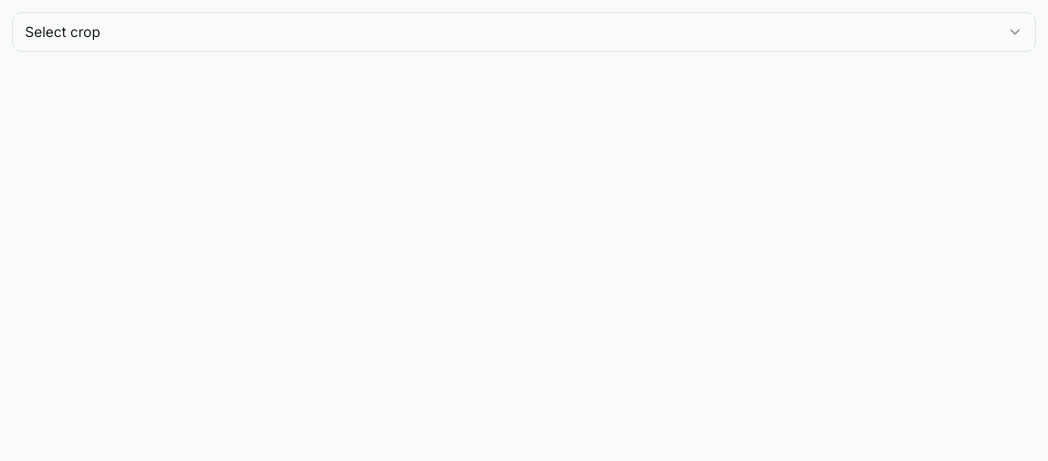
Scenario: CatalogueSelectItems › disables a PILOT item the SERVER marks unsellable, with the server's reason
Click the dropdown labelled "crop": coordinates (63, 32) [12,12,1036,52]
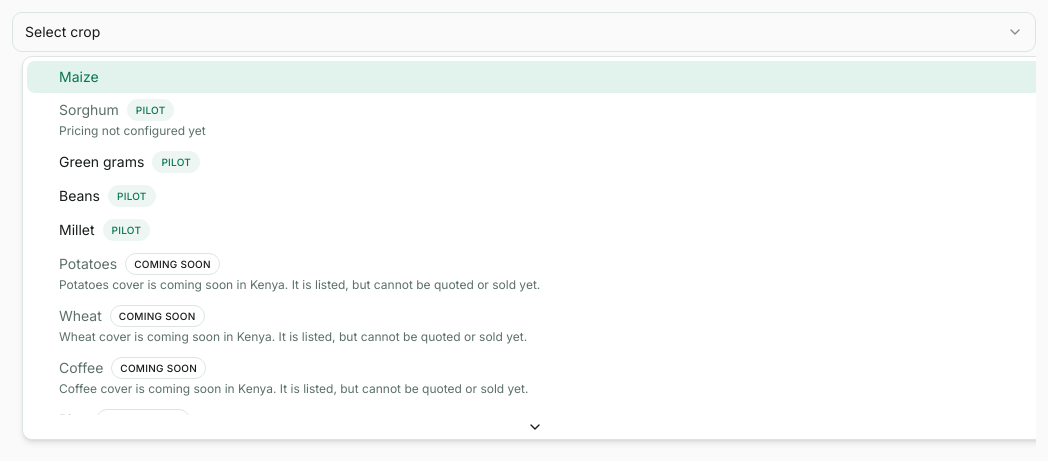
Expected: the option "Sorghum Pilot Pricing not configured yet" does not show "Not offered in Kenya", [59,99,206,138]
Now the option "Sorghum Pilot Pricing not configured yet" is shown, box [59,99,206,138]
